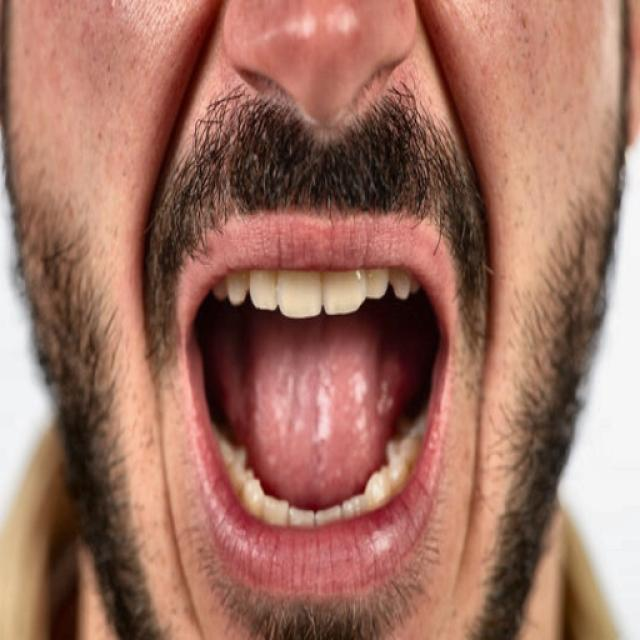processing_area: (224, 309, 404, 508)
